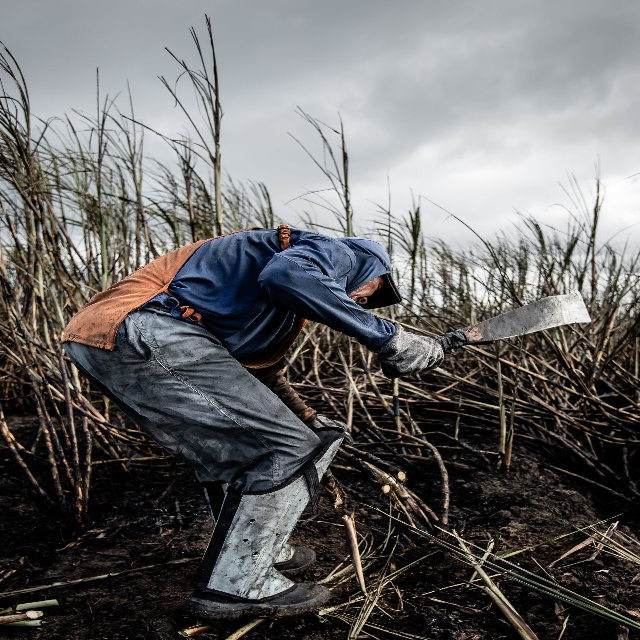Guantes: (377, 319, 445, 378), (308, 412, 353, 447)
